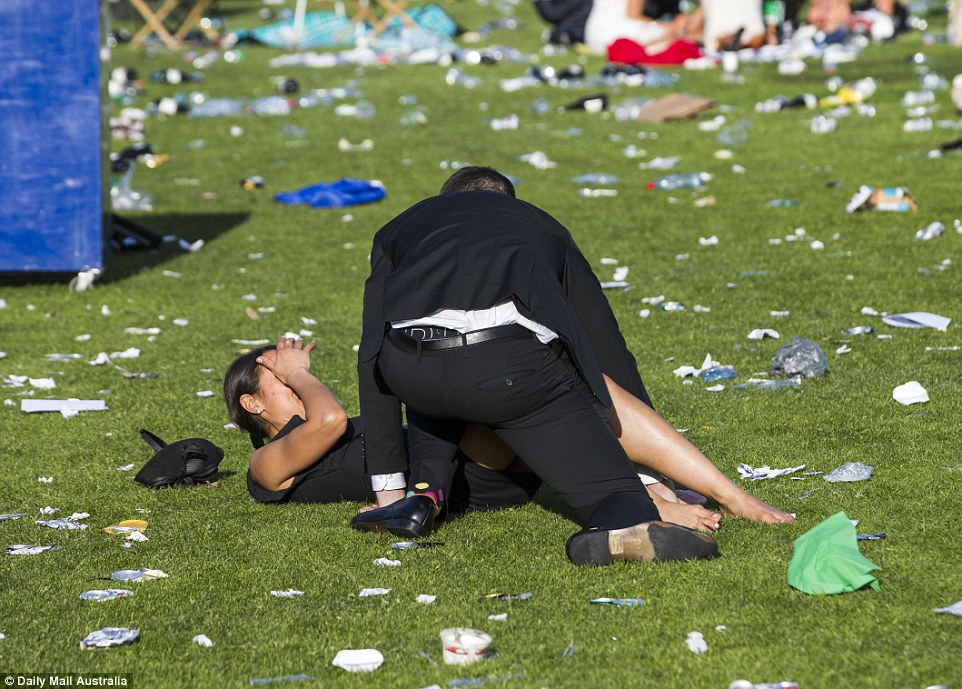Person: (359, 168, 717, 562), (225, 338, 362, 503)
